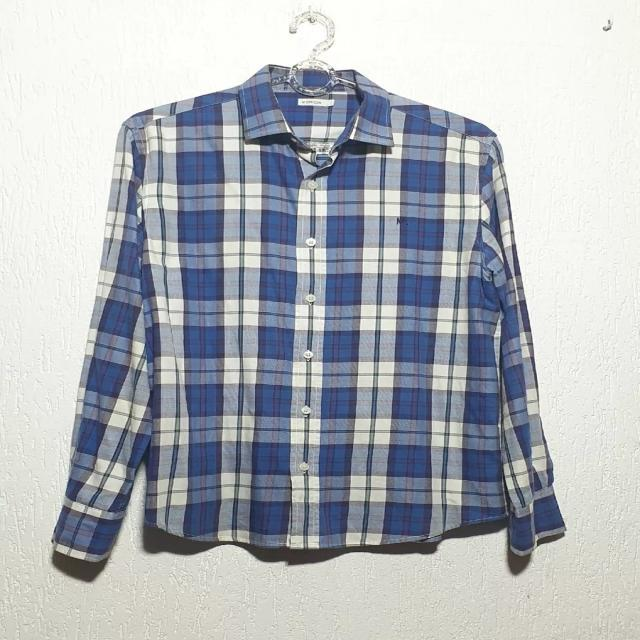long sleeve shirt: (48, 62, 568, 570)
